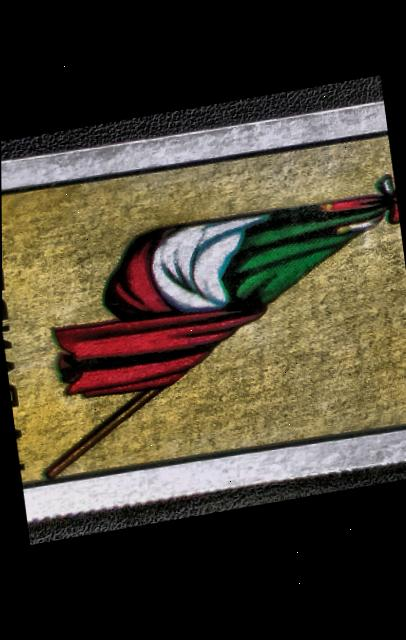La Bandera: (1, 119, 406, 504)
